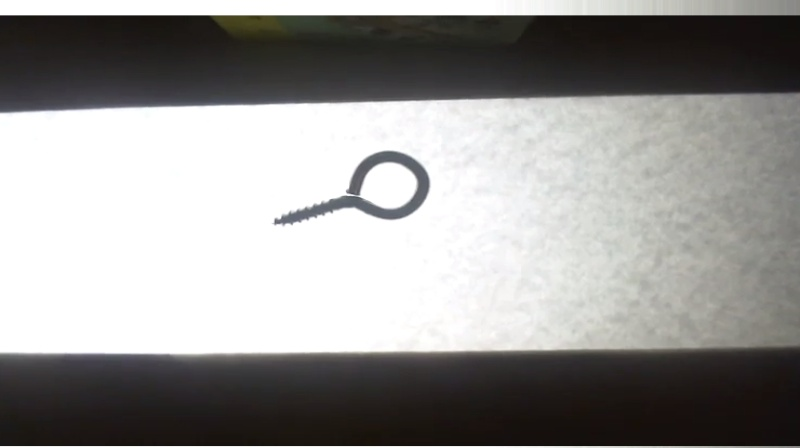O001: (268, 148, 435, 230)
